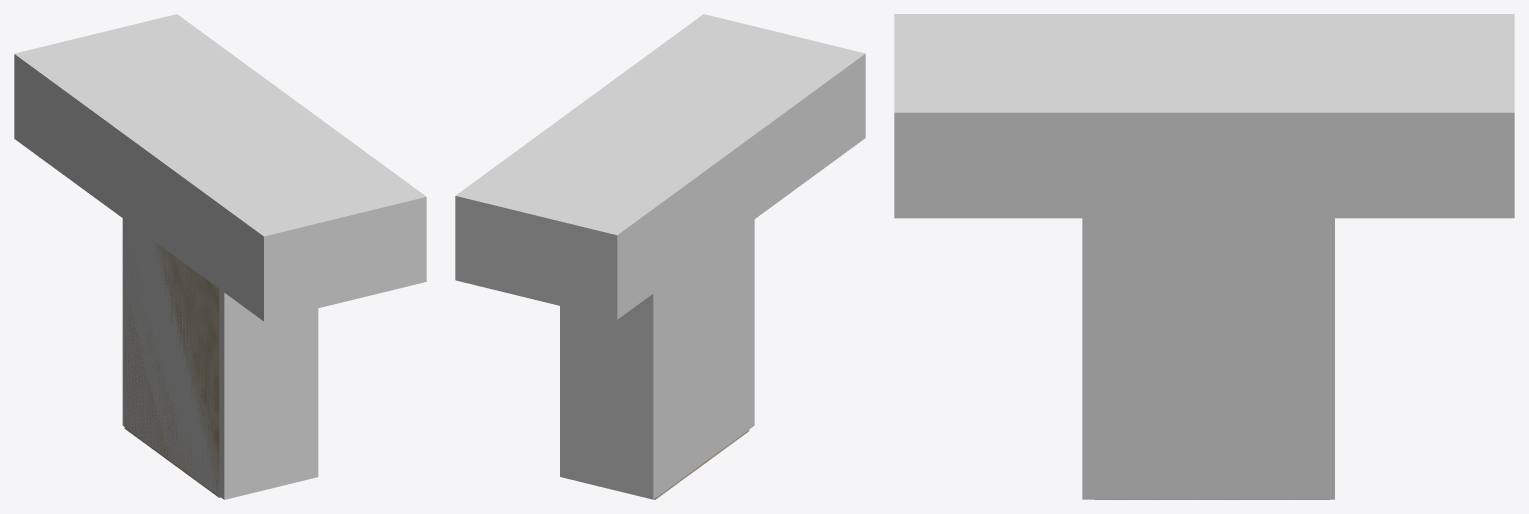
File: Normal.gltf
3 renders of one model, left to right at view 1: azimuth 30°, elevation 25°; view 2: azimuth 150°, elevation 25°; view 3: azimuth 270°, elevation 25°, orthographic. The views are drawn at different scales.
Visible parts, largest first — view 1: COL, Cube; view 2: COL; view 3: COL.
Boxes of the visible parts, x1=… form: COL: x1=14, y1=14, x2=426, y2=499; Cube: x1=124, y1=221, x2=220, y2=497; COL: x1=455, y1=14, x2=865, y2=499; COL: x1=894, y1=14, x2=1514, y2=499.
Size of the model in its own units: 1.89 by 3.64 by 5.01.
1 material, 1 textured.
